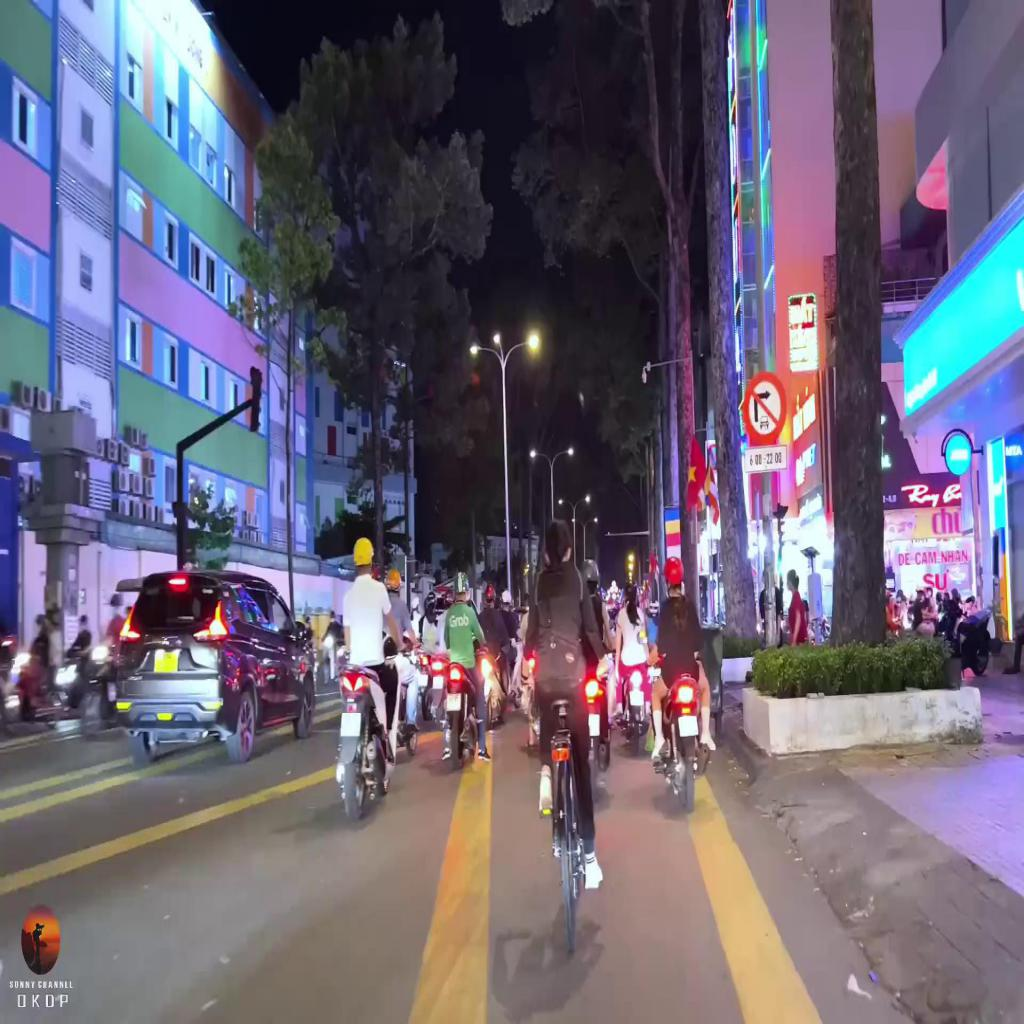cam_o_to_re_phai: (744, 370, 786, 446)
khac: (744, 444, 786, 470)
